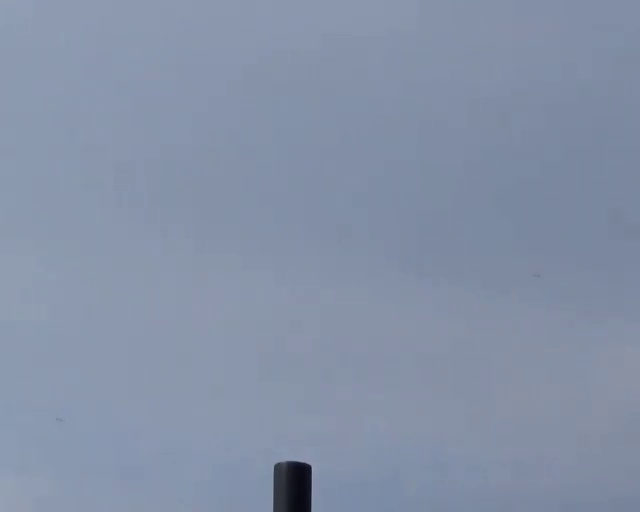BIRD: (55, 413, 69, 424)
